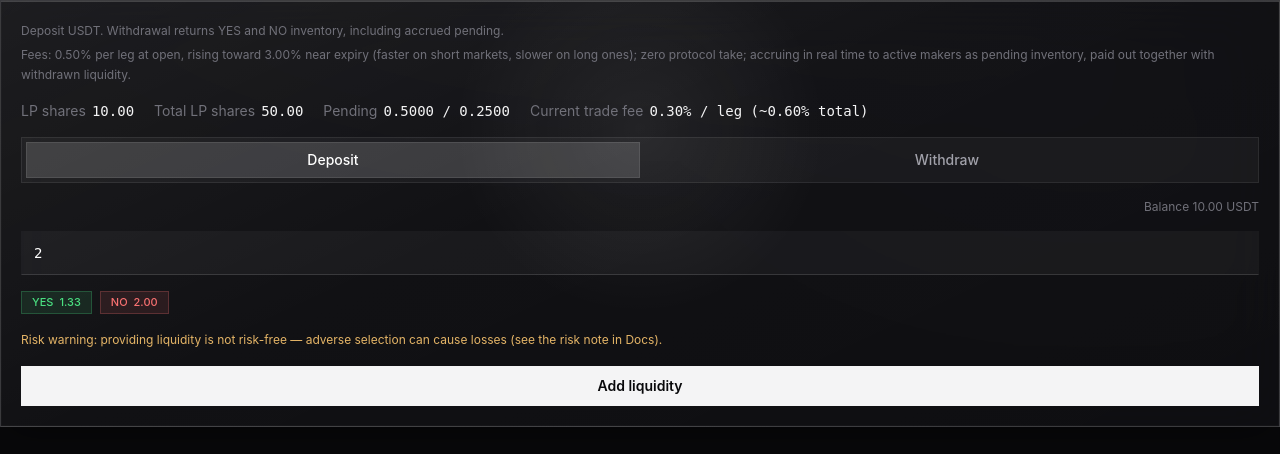
Scenario: LpDesk 报价展示与指令提交 › Withdraw 模式：按撤资份额比例折算 pending，支持 Max 填满并调用 ixGetLiquidity
This screenshot has width=1280, height=454.
Click the button "Withdraw". click: (947, 160)
box: [640,142,1254,178]
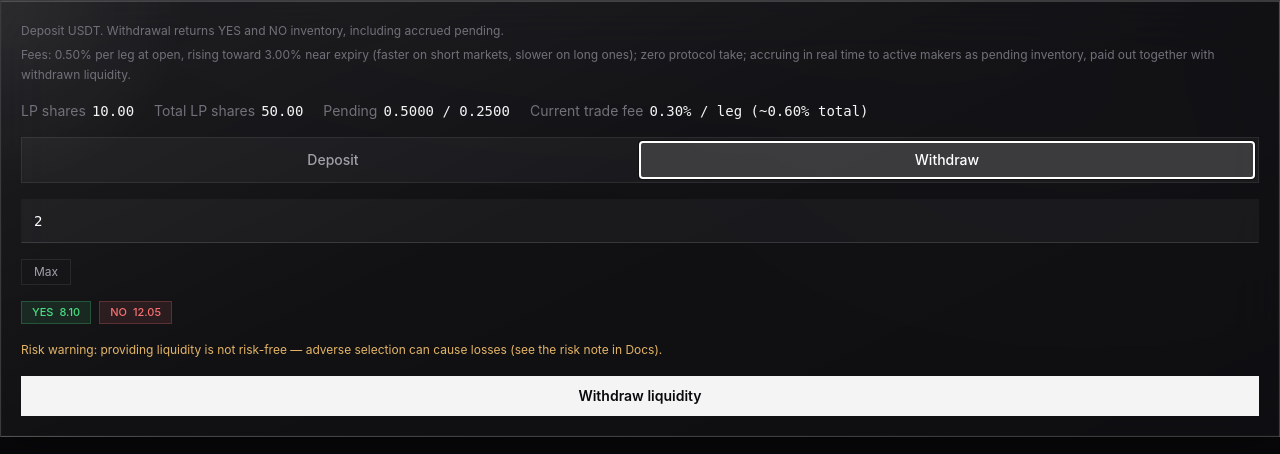
Replace the text in the field with "3". click: (640, 221)
box: [21,199,1259,243]
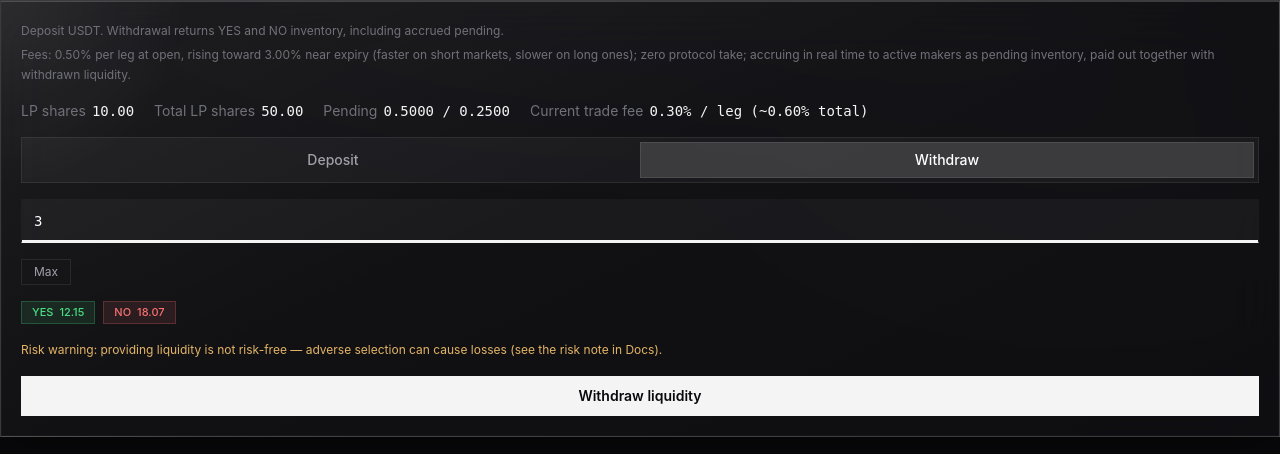
Click the button "Withdraw liquidity". click: (640, 396)
box: [21,376,1259,416]
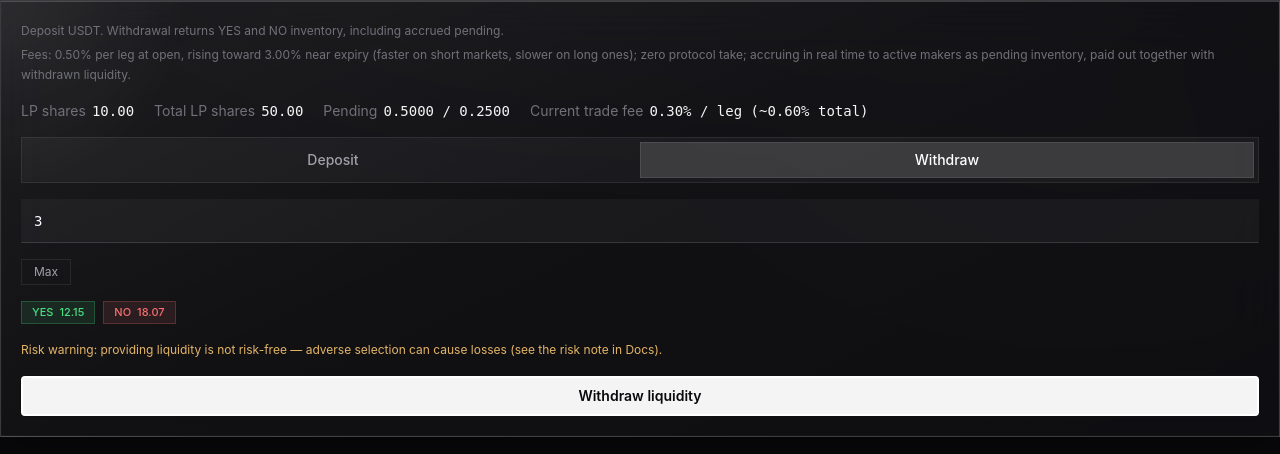
Click the button "Max". click: (46, 272)
box: [21,259,71,285]
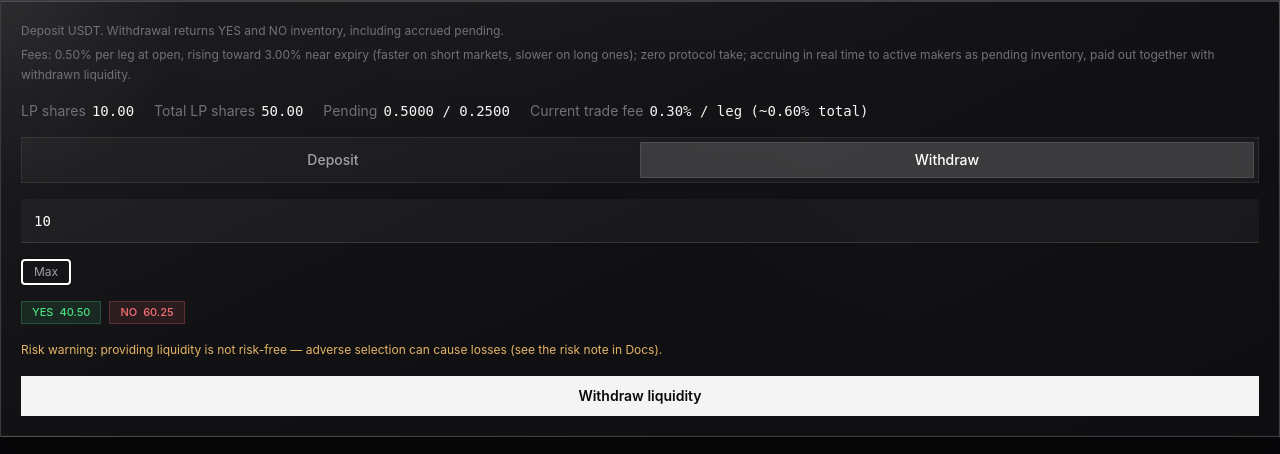
expect the field named "Withdraw" holds "10": met, box [21,199,1259,243]
